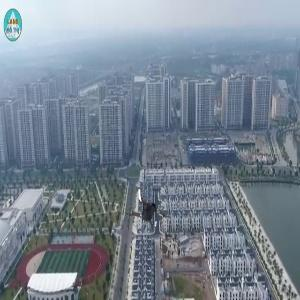drone: (123, 180, 176, 233)
